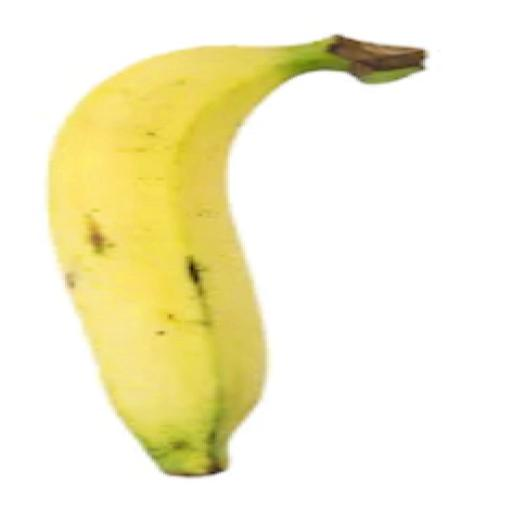banana: (49, 36, 422, 475)
